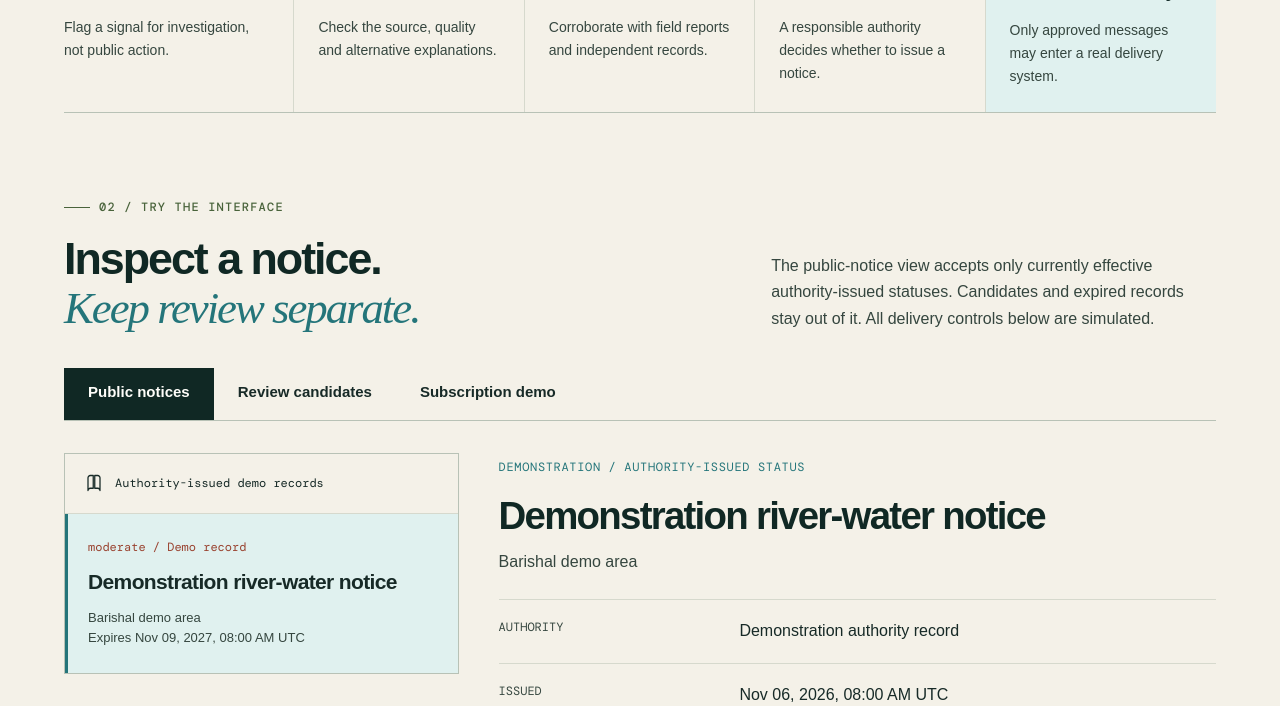
editorial evidence boundaries › labels GroundLine as a demonstration before notices and keeps candidates out of the public tab
This screenshot has width=1280, height=706.
(page scrolled)
Expected: the text "Lake-change review candidate" is not shown
Click the tab "Review candidates" at (305, 394), box [214, 368, 396, 420]
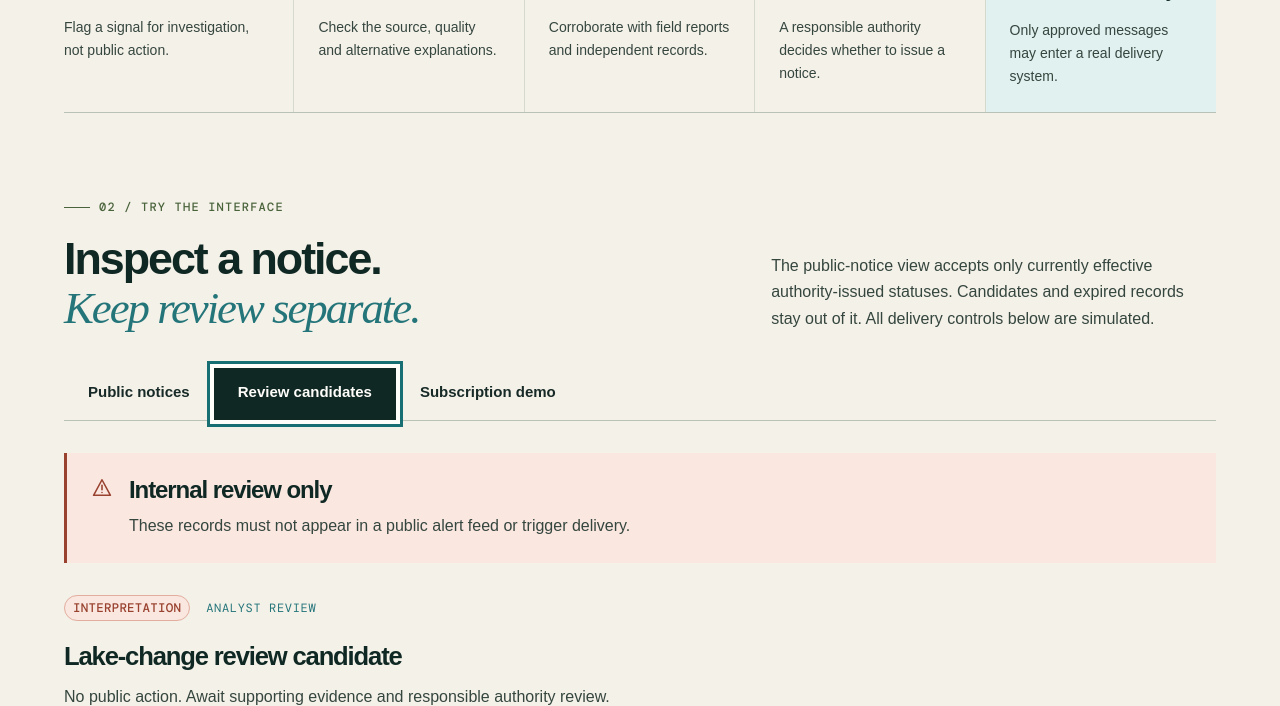
Expected: the heading "Lake-change review candidate" is shown, [64, 642, 402, 670]
Expected: the button "Demonstration river-water notice" is gone
Expected: the text "must not appear in a public alert feed" is shown, [129, 517, 630, 534]
